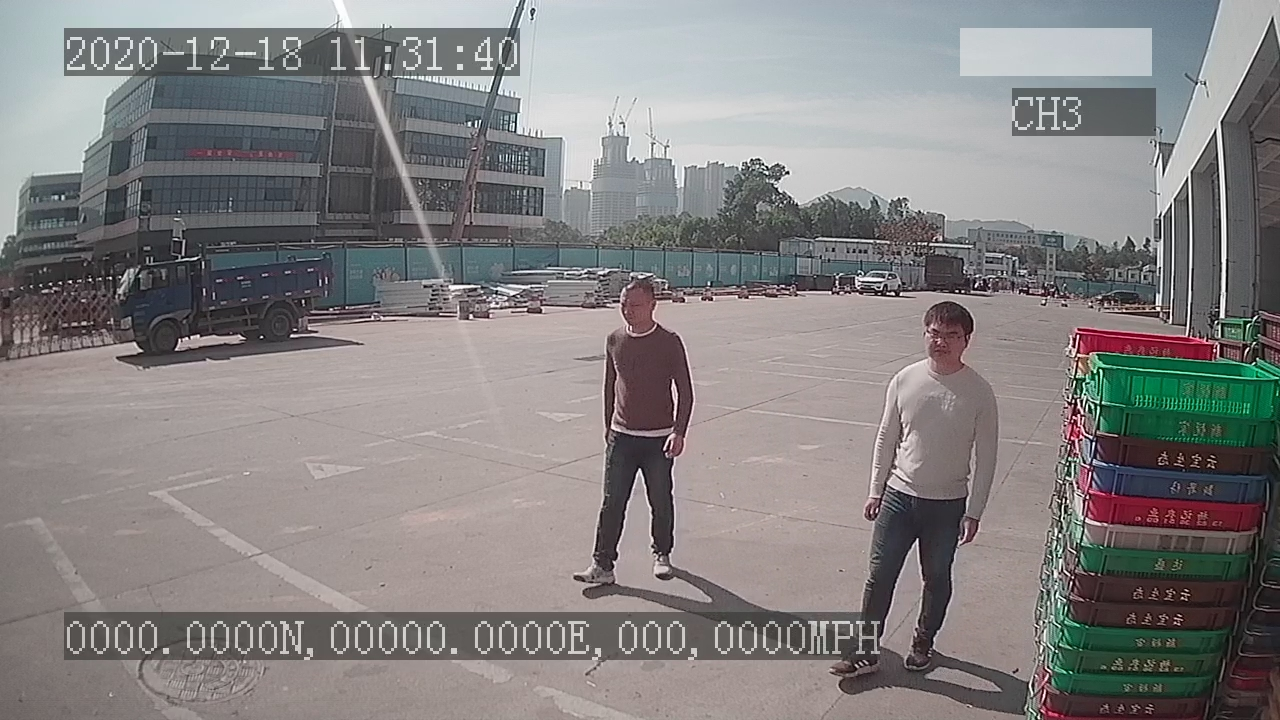person: (570, 274, 696, 591)
